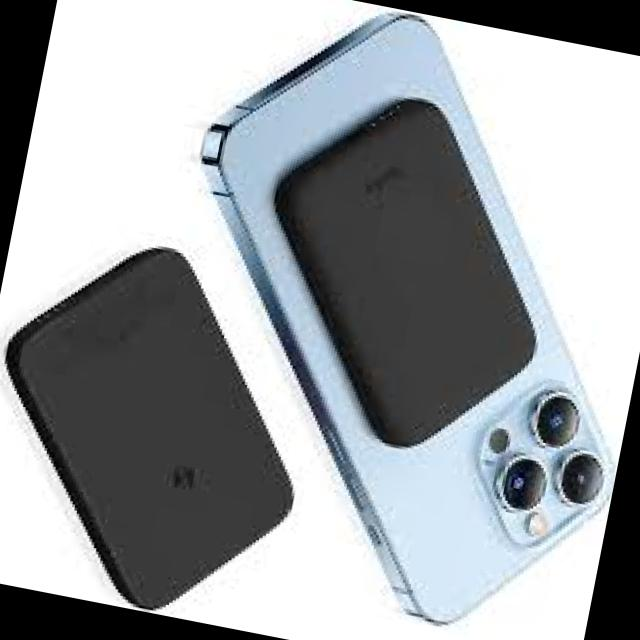portable-charger: (222, 66, 586, 481), (0, 211, 345, 636)
